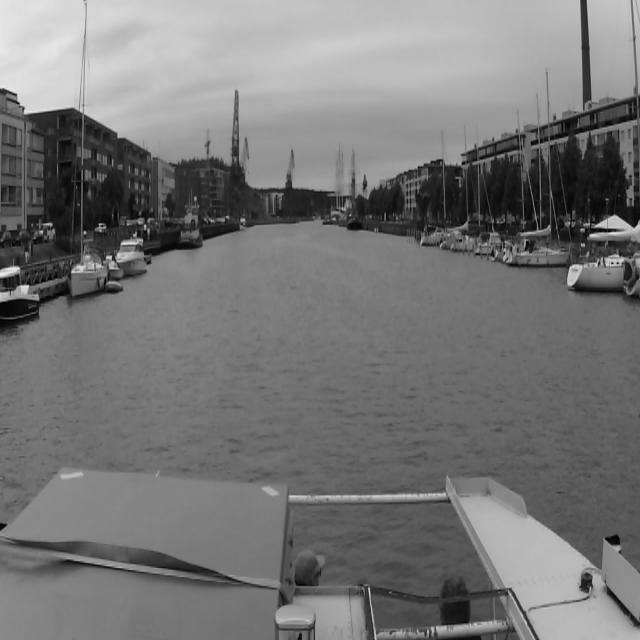ship: (571, 7, 637, 286), (65, 1, 111, 297), (518, 69, 567, 265), (451, 120, 499, 253), (421, 130, 457, 246), (1, 271, 39, 324), (328, 141, 352, 217), (176, 196, 204, 249), (347, 147, 361, 229), (117, 238, 147, 272), (239, 216, 245, 229)
